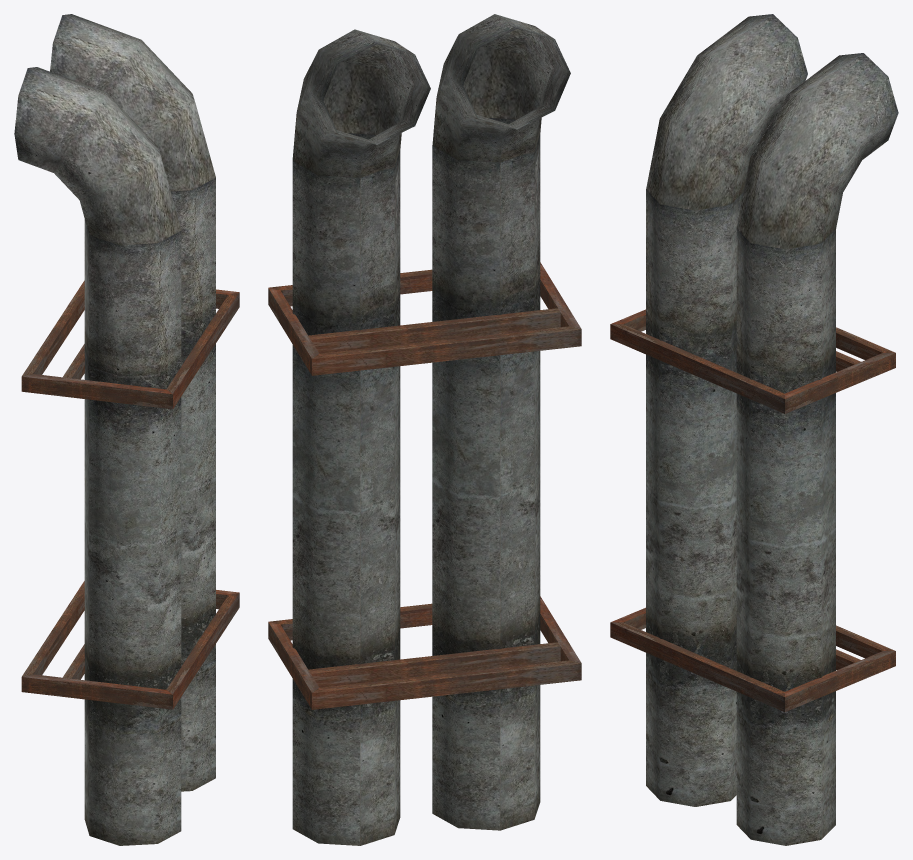
File: Pipes_set_v1_V_set_v2.glb
3 renders of one model, left to right at view 1: azimuth 30°, elevation 25°; view 2: azimuth 150°, elevation 25°; view 3: azimuth 270°, elevation 25°, orthographic. The views are drawn at different scales.
Visible parts, largest first — view 1: Pipes_set_v1_V_set_v2; view 2: Pipes_set_v1_V_set_v2; view 3: Pipes_set_v1_V_set_v2.
Part boxes in pixels (<box>): Pipes_set_v1_V_set_v2: <box>14,14,239,845</box>; Pipes_set_v1_V_set_v2: <box>268,14,581,845</box>; Pipes_set_v1_V_set_v2: <box>610,14,898,845</box>.
Bounding box in the file's own units: 2 × 5.69 × 2.01.
1 material, 1 textured.
